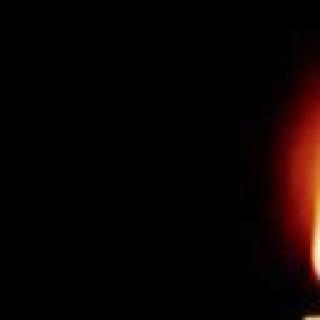fire: (313, 122, 320, 292)
